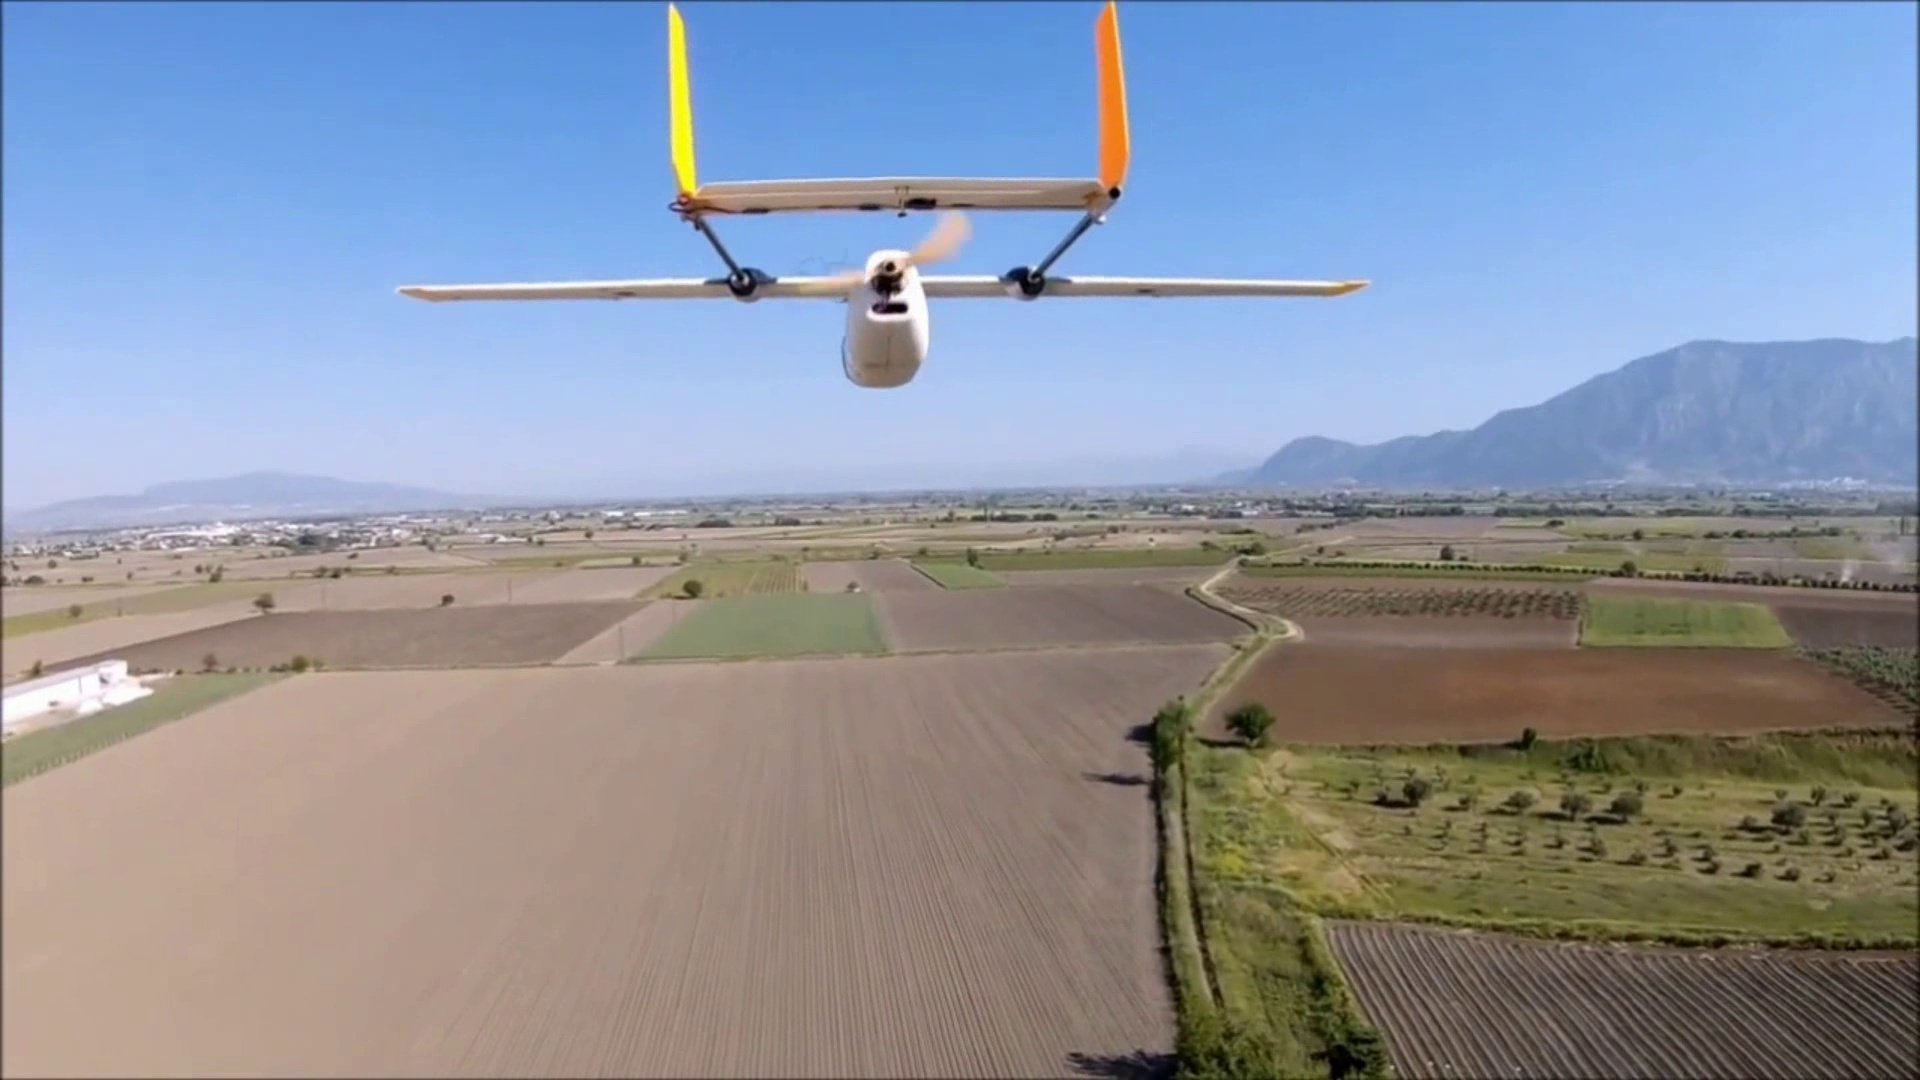airplane: (398, 4, 1367, 385)
